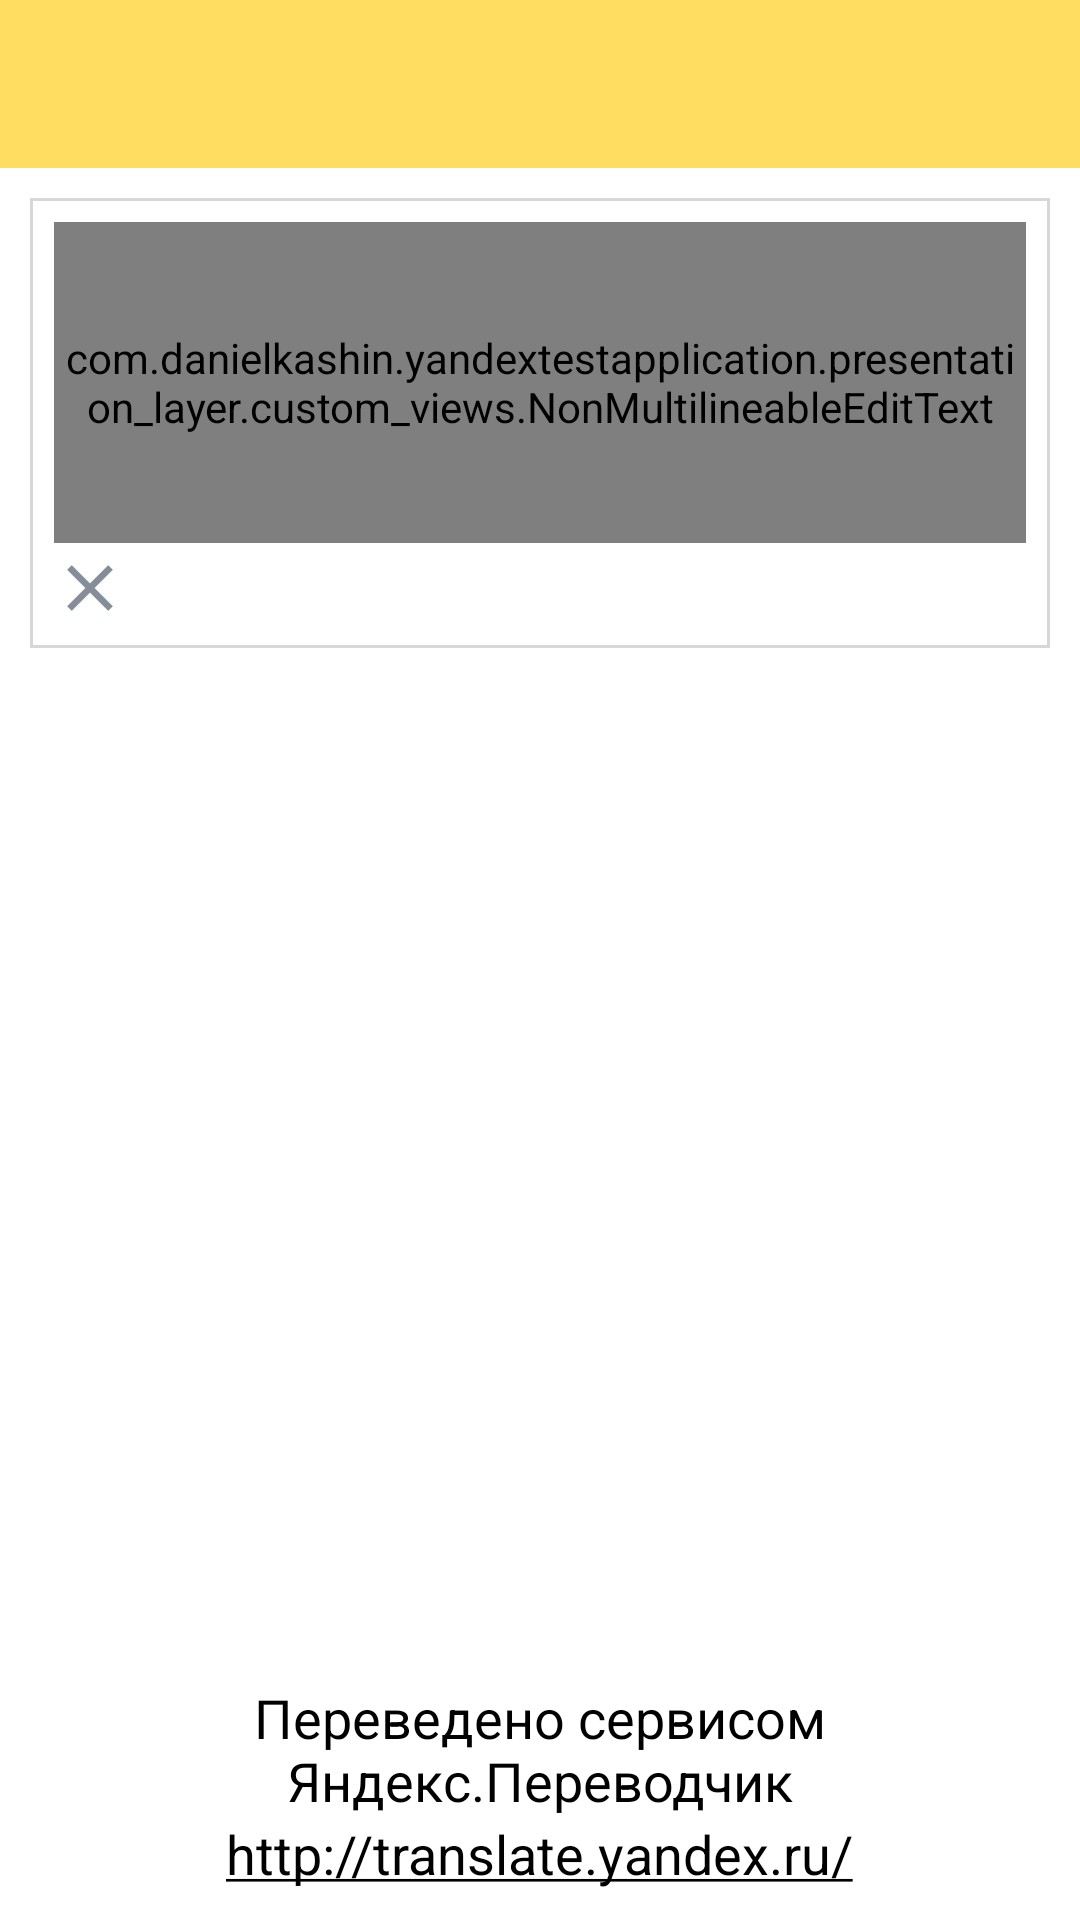

Where to tap for icons on this 1080px x 1920px app screen, as (x=x, y=y):
clear: (x=90, y=588)
